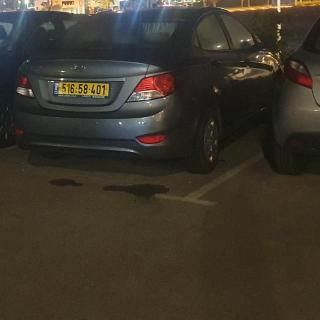LicensePlate: (59, 83, 109, 96)
